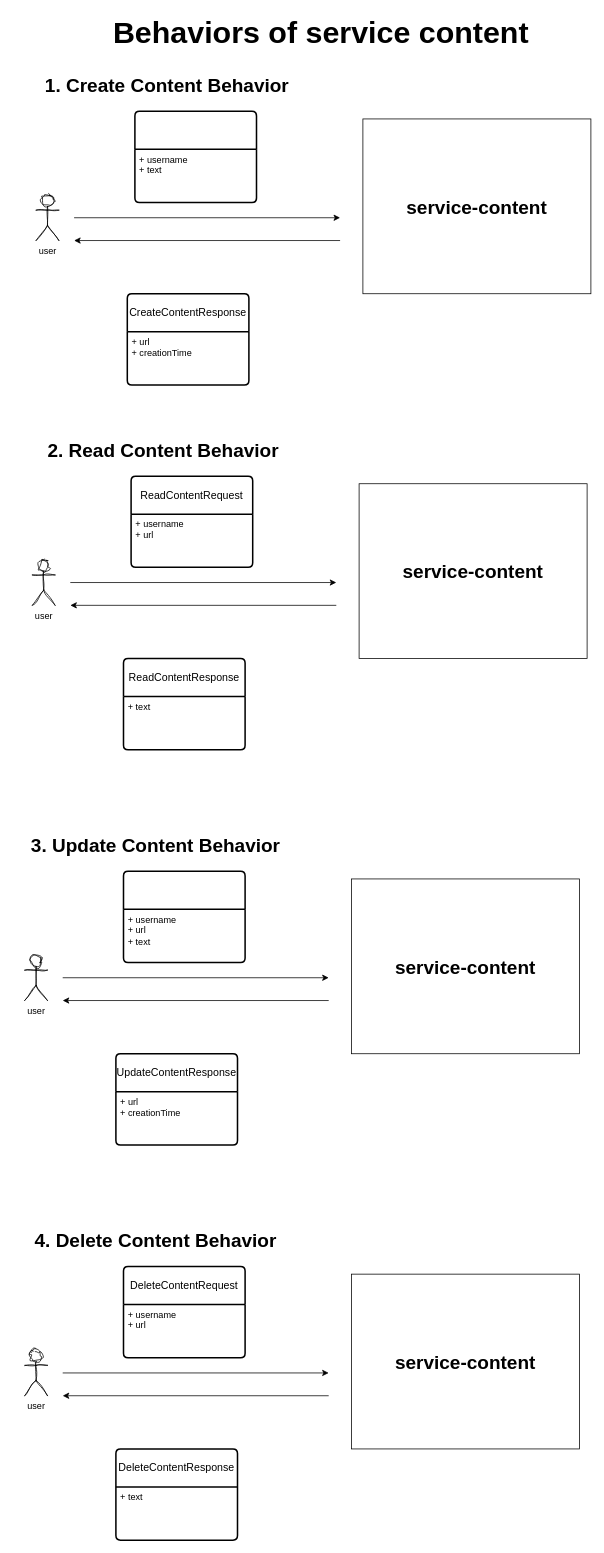
The diagram is 604 pixels wide and 1553 high, and some of its shapes have lost their labels. Here are the shapes that lost their labels. From the top down, the box of each, then its label:
(134, 110, 257, 203): CreateContentRequest
(122, 870, 245, 963): UpdateContentRequest
